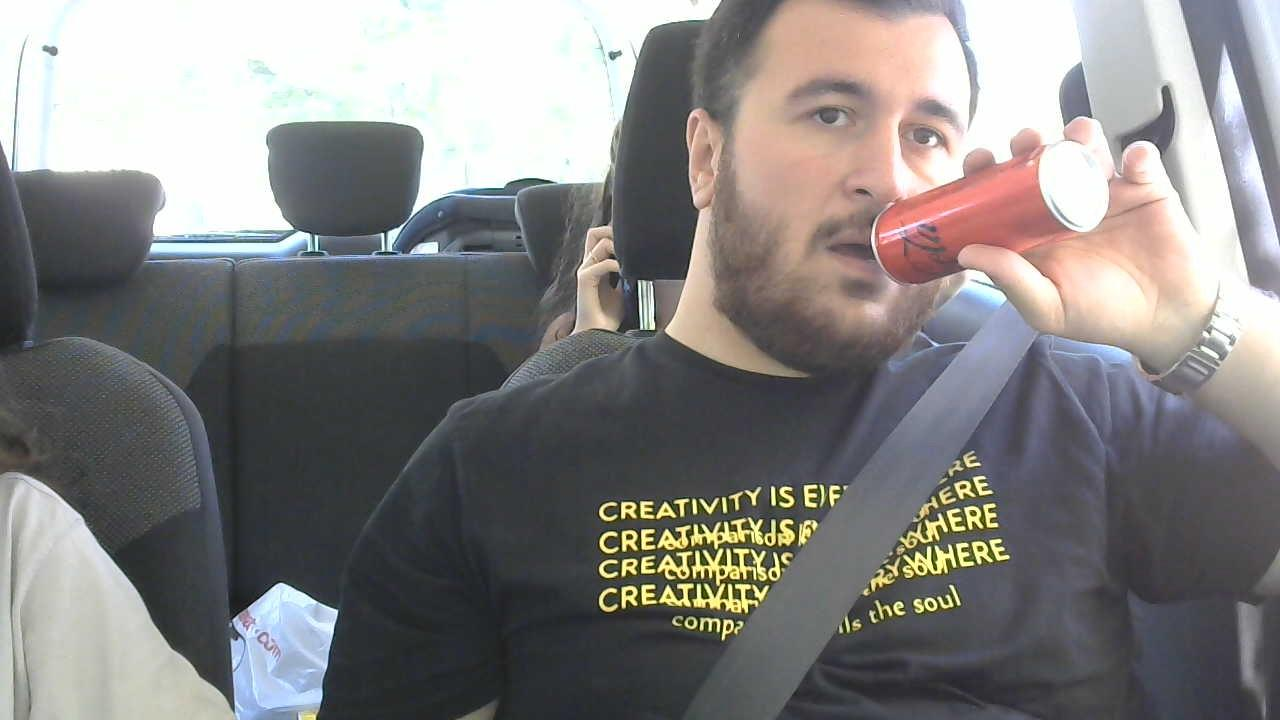Drinking: (687, 2, 1132, 361)
